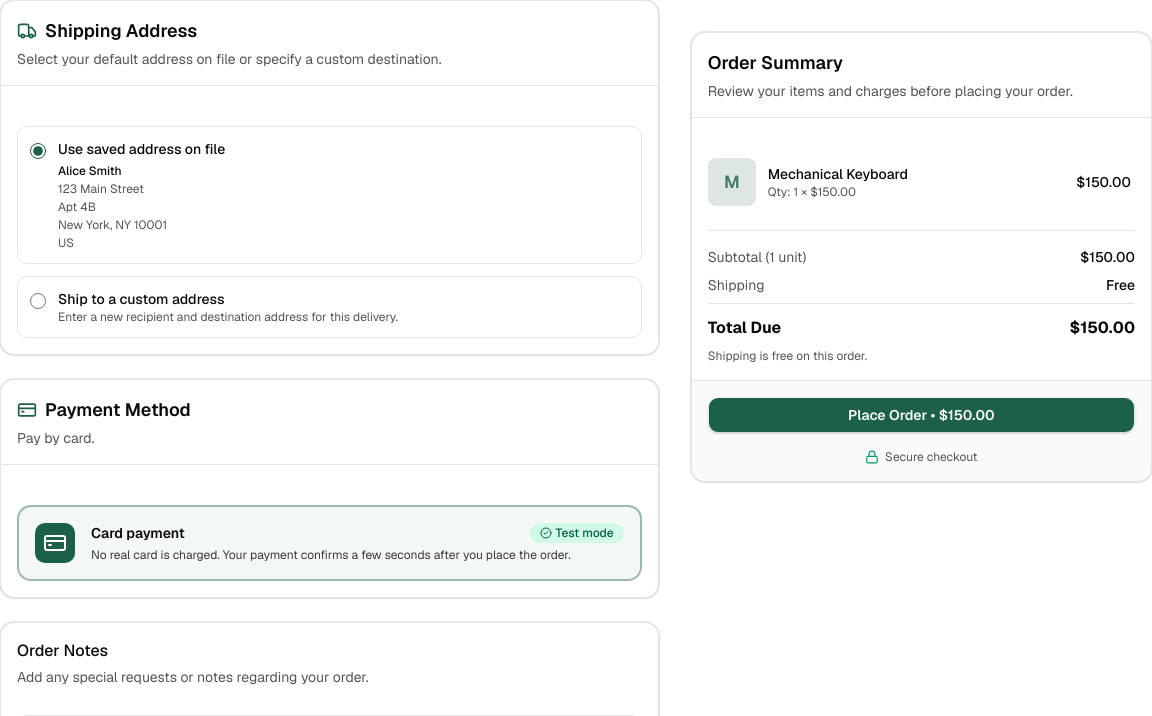
Test: CheckoutForm › maps API 400 validation error to specific form field
Click the button "Place Order • $150.00" at (921, 415), box [708, 397, 1135, 433]
(page scrolled)
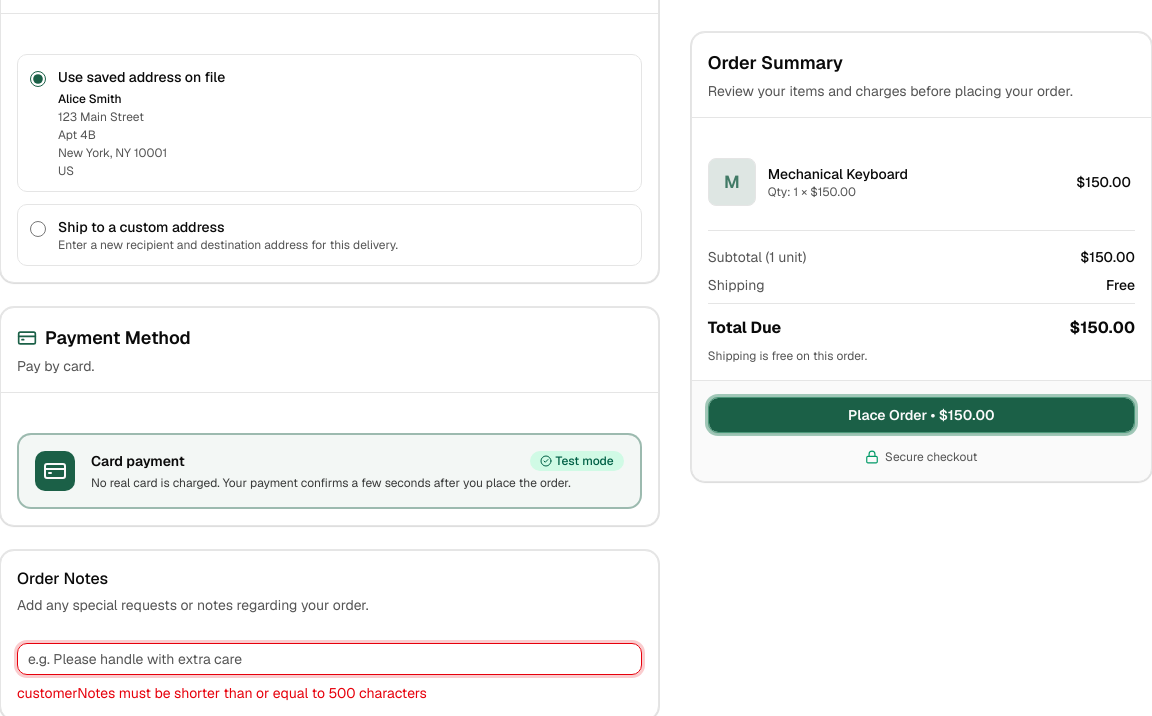
Result: the text "customerNotes must be shorter than or equal to 500 characters" is shown at [17, 684, 427, 702]
